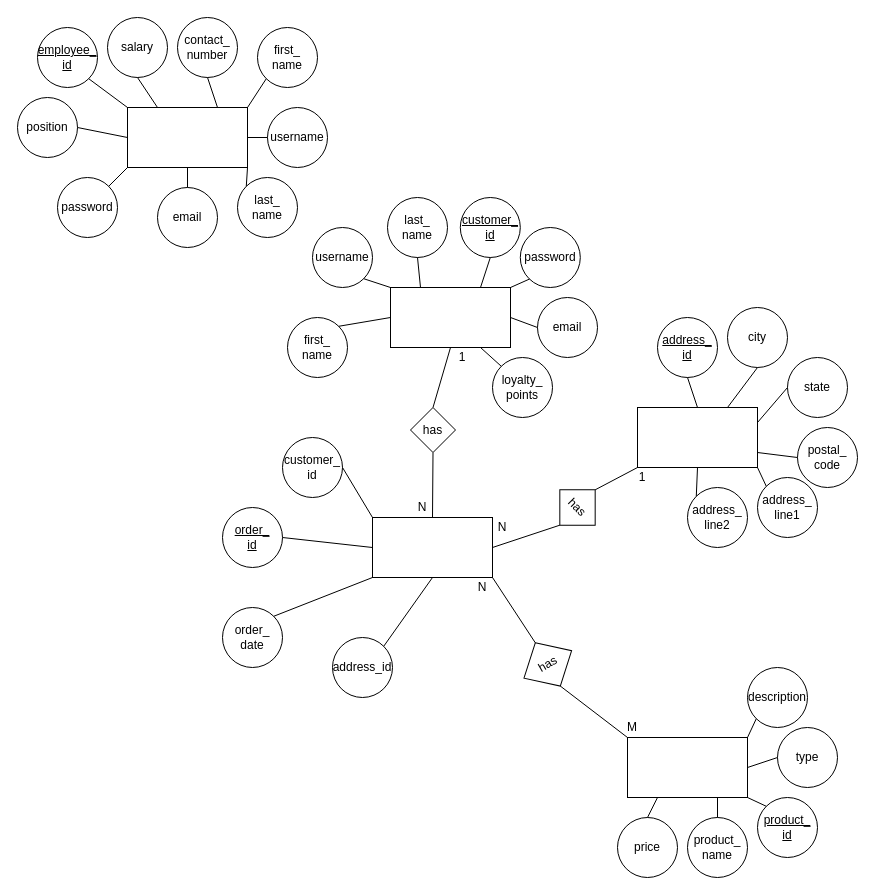
Image size: 875x895. Some labels were removed from this diagram. Here are the shapes that lost their labels. From the top down, the centre of each, then its label:
At pixel 187 137: "Employee".
At pixel 450 317: "Customer".
At pixel 697 437: "Address".
At pixel 432 547: "Orders".
At pixel 687 767: "Products".
